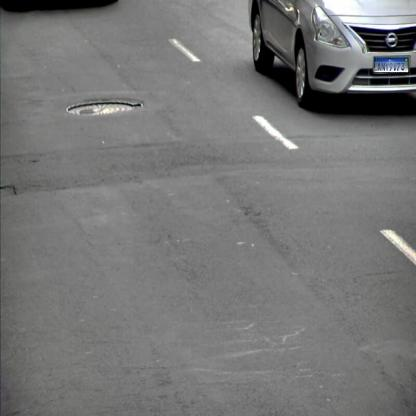PlacaM: (374, 57, 409, 73)
